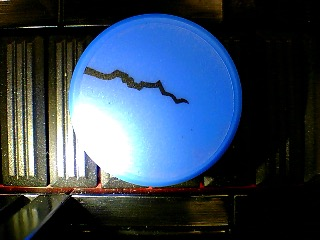CRACK: (68, 12, 244, 188)
